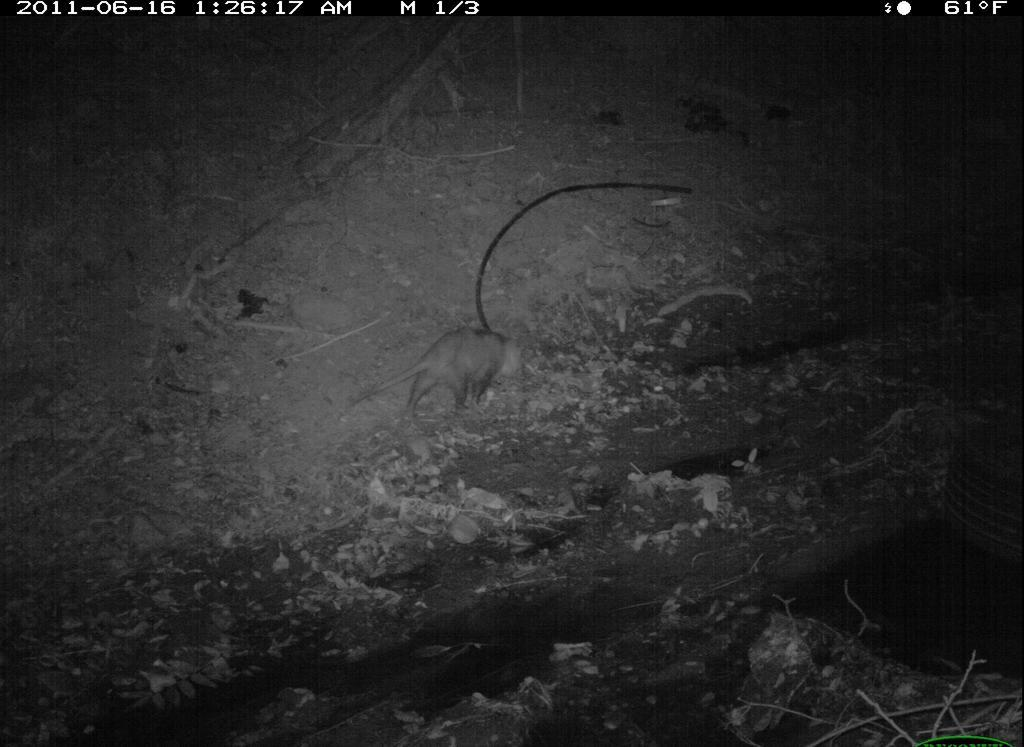opossum: (338, 323, 532, 422)
